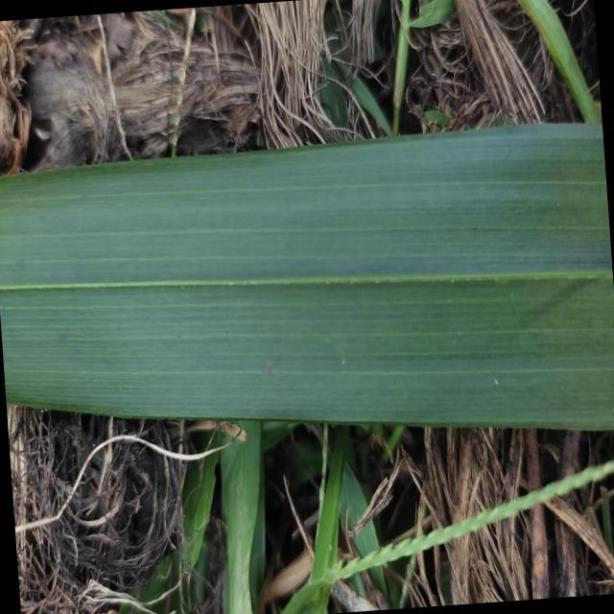Healthy: (0, 120, 614, 430)
